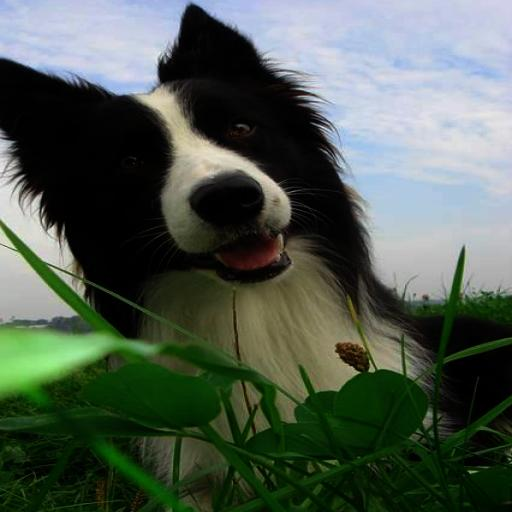dog_face: (0, 18, 337, 285)
